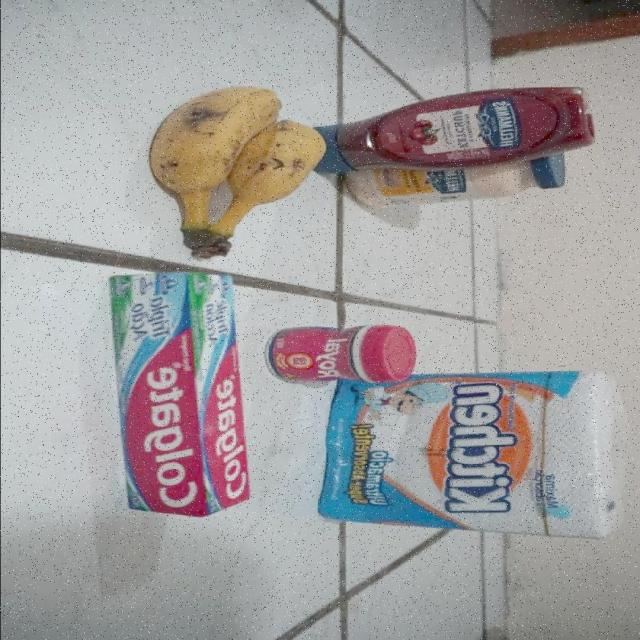Banana: (146, 85, 326, 258)
Ketchup: (308, 84, 597, 174)
Mayonnaise: (340, 154, 571, 207)
Napkin: (316, 369, 626, 539)
Toothpaste: (104, 271, 250, 518)
Yeast: (268, 323, 417, 382)
